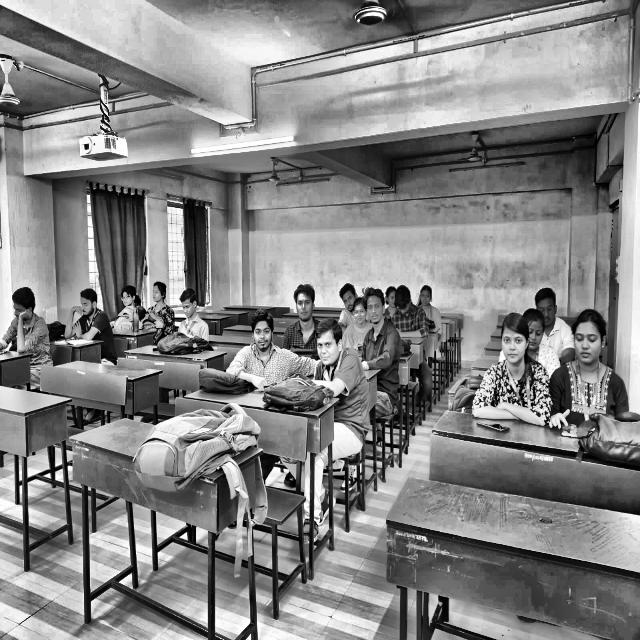Focus: (111, 272, 179, 316), (170, 283, 210, 354), (72, 275, 110, 342)
Not Focus: (226, 316, 363, 392), (293, 286, 394, 348), (343, 275, 442, 332), (0, 270, 52, 375), (569, 317, 617, 398), (496, 312, 544, 392), (536, 271, 570, 349)
